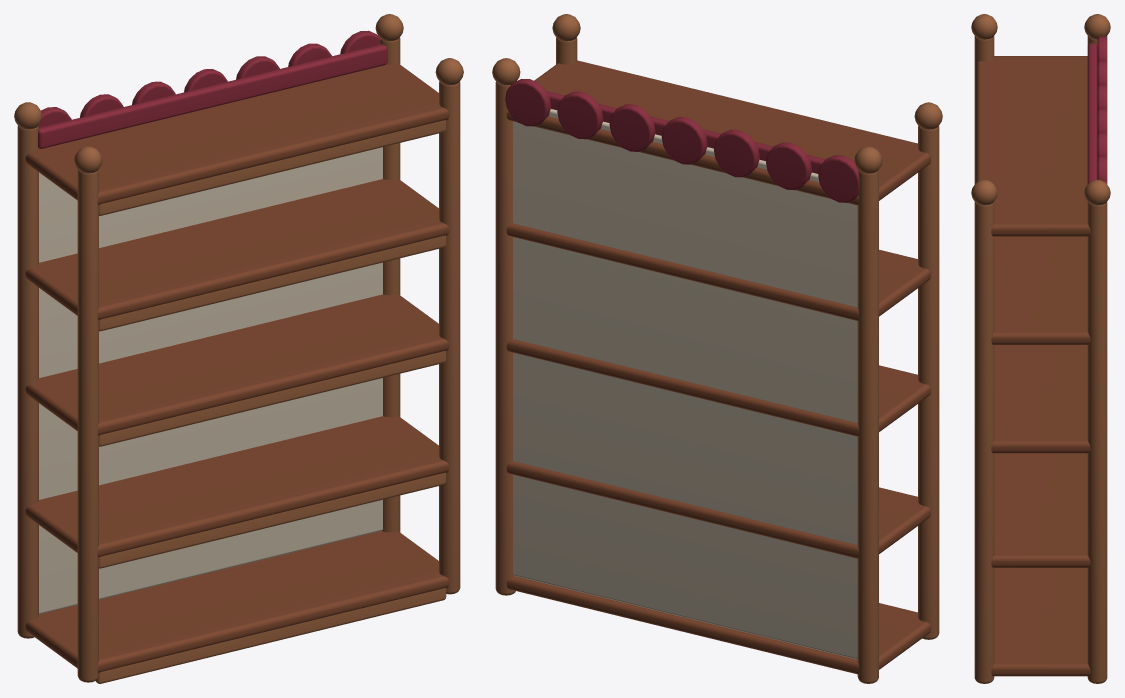
Rendered from supplies-rack.glb.
The picture shows the model from 3 angles, left to right: view 1: azimuth 30°, elevation 25°; view 2: azimuth 150°, elevation 25°; view 3: azimuth 270°, elevation 25°; orthographic projection. The views are drawn at different scales.
Visible parts, largest first — view 1: supplies-rack; view 2: supplies-rack; view 3: supplies-rack.
Part boxes in pixels (<box>): supplies-rack: <box>14,14,463,683</box>; supplies-rack: <box>492,14,942,683</box>; supplies-rack: <box>971,14,1110,683</box>.
Bounding box in the file's own units: 1.26 × 1.67 × 0.42.
